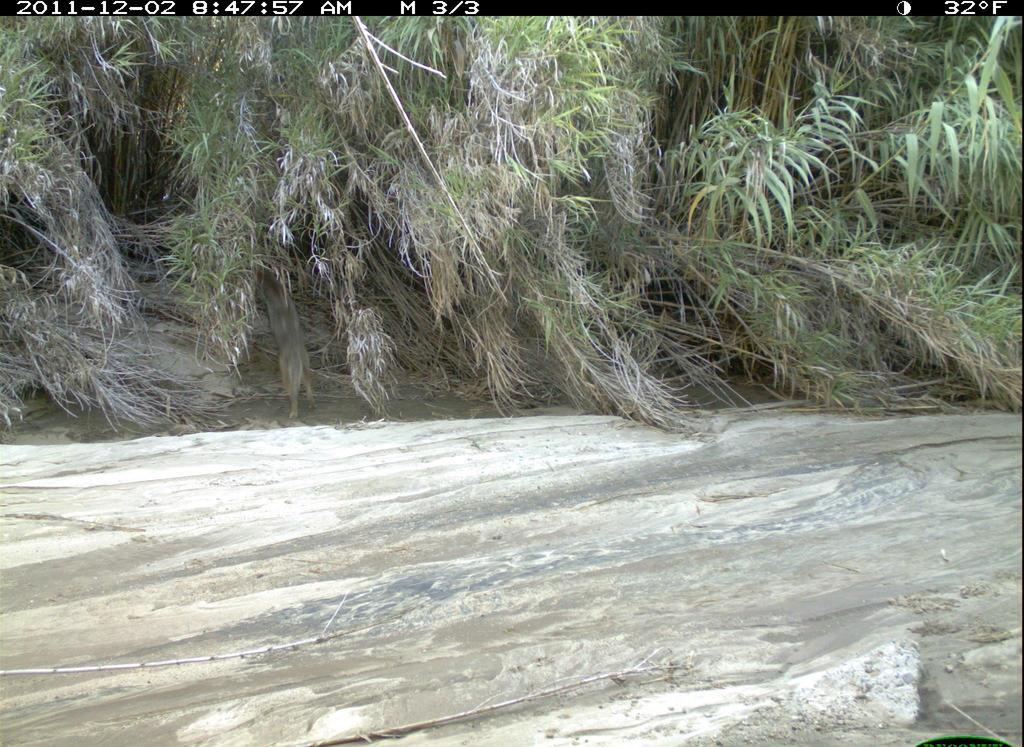coyote: (254, 263, 323, 422)
